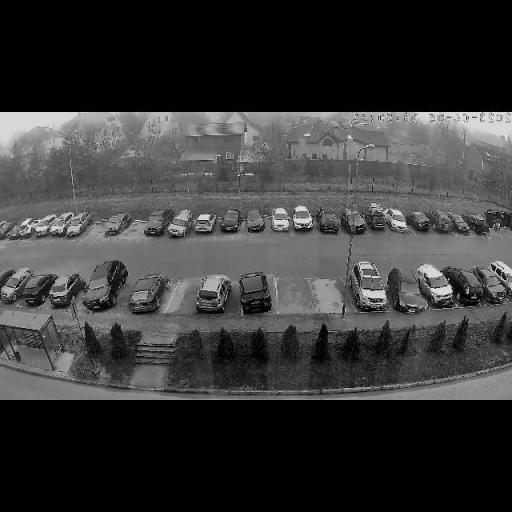busy: (80, 262, 128, 312), (348, 262, 394, 311), (232, 269, 278, 317), (414, 262, 458, 310), (386, 269, 425, 315), (125, 274, 168, 314), (190, 276, 232, 313), (450, 268, 488, 305), (481, 260, 512, 304), (44, 276, 82, 306), (0, 268, 31, 304), (20, 274, 54, 305), (57, 213, 93, 237), (314, 206, 344, 234), (164, 210, 194, 238), (100, 212, 134, 236), (289, 205, 319, 232), (340, 208, 370, 235), (216, 208, 245, 234), (140, 211, 168, 237), (382, 209, 412, 233), (242, 208, 268, 234), (460, 213, 490, 235), (267, 208, 293, 232), (404, 212, 433, 233), (9, 218, 36, 240), (190, 214, 216, 236), (484, 212, 510, 234), (430, 211, 456, 232), (449, 209, 469, 236), (30, 216, 56, 235), (366, 210, 388, 230), (0, 219, 20, 239)
free: (314, 280, 347, 309), (280, 284, 314, 310), (172, 279, 198, 313), (88, 222, 110, 240), (128, 223, 146, 236)
